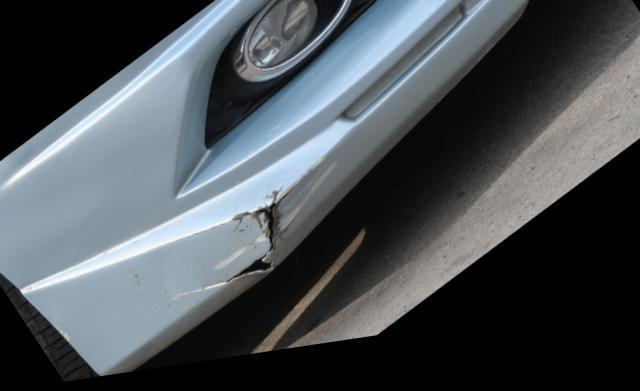crack: (150, 181, 307, 300)
scratch: (278, 160, 335, 241)
